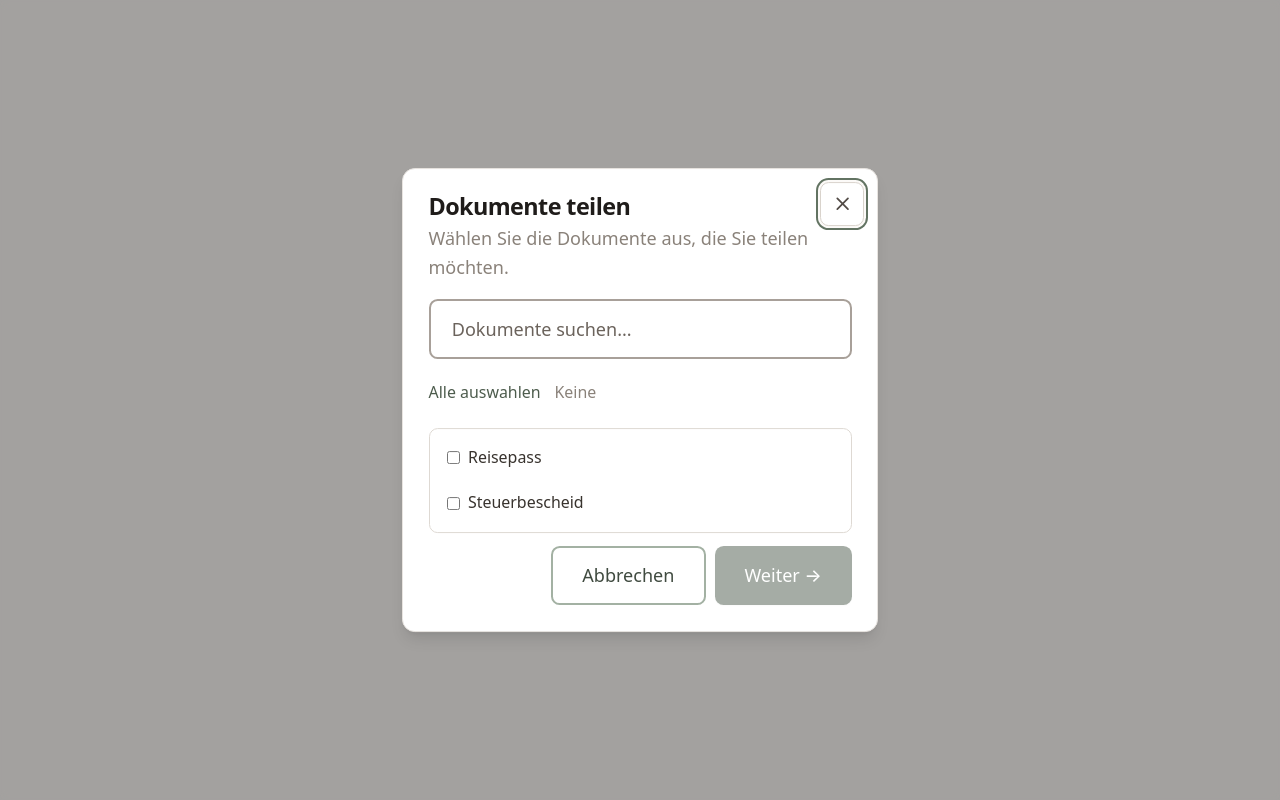
Test: BulkShareDialog › "Weiter →" navigates to Settings step
Click the checkbox labelled "Reisepass" at (453, 458), box x1=446 y1=452 x2=460 y2=465
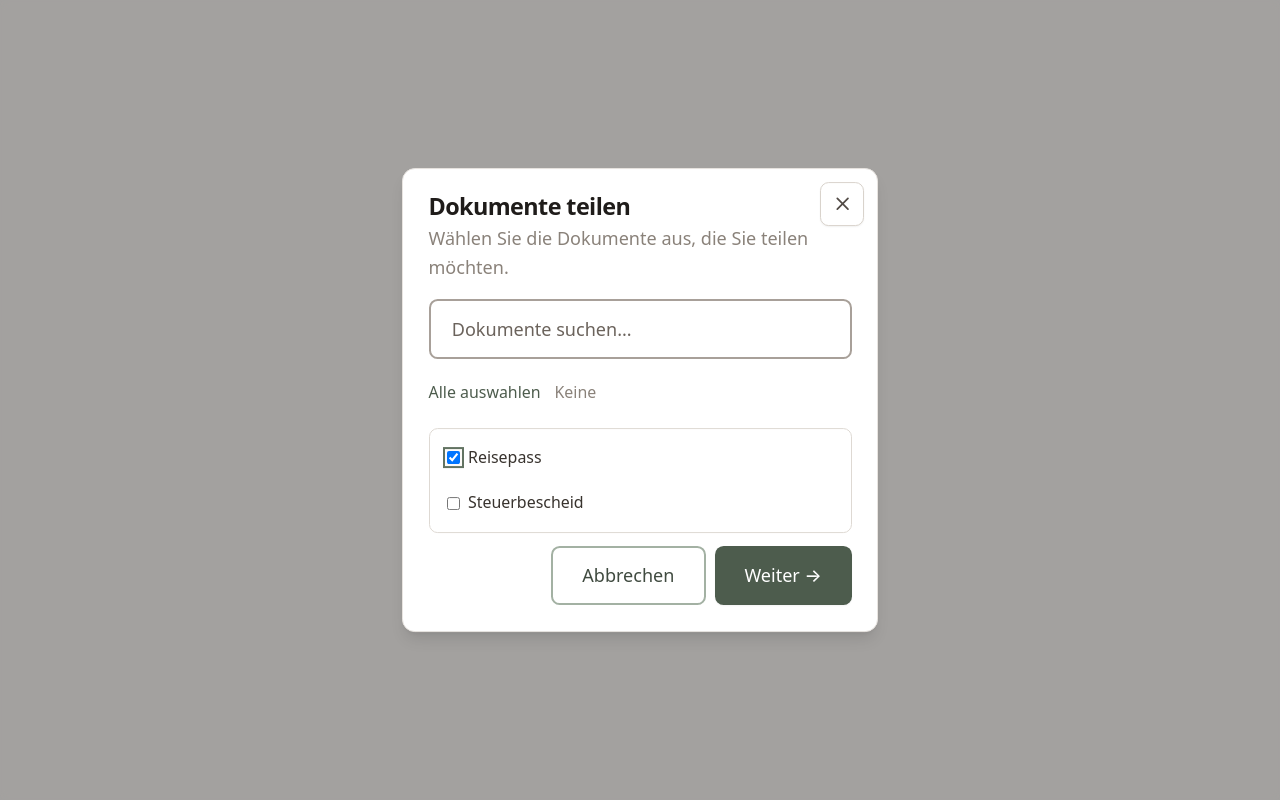
Click the button "Weiter →" at (783, 576), box x1=715 y1=546 x2=852 y2=605
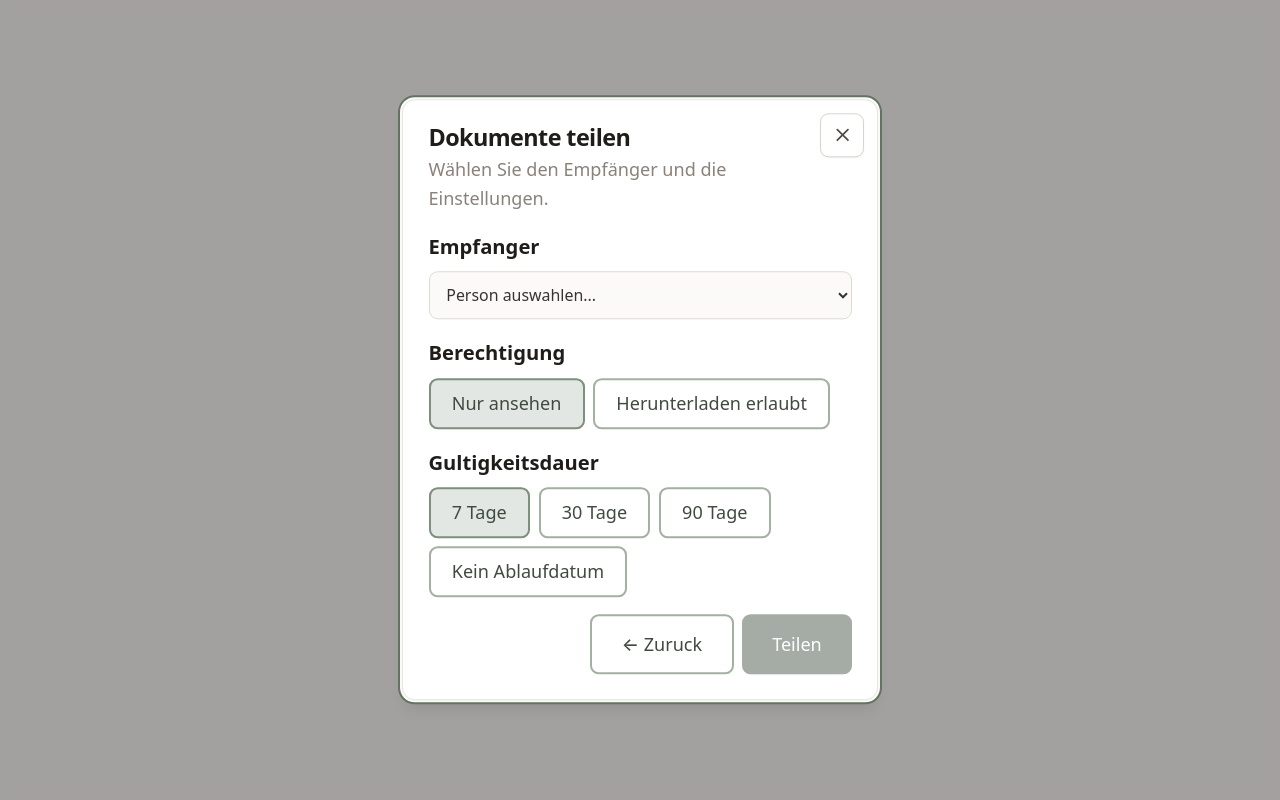
Result: the dropdown labelled "Empfanger" is shown at x1=428 y1=272 x2=852 y2=320
